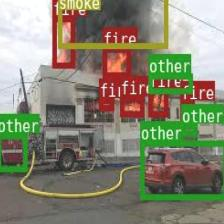fire: (52, 16, 74, 68), (102, 46, 130, 76), (147, 87, 167, 116), (119, 95, 143, 116), (180, 99, 193, 120), (99, 97, 113, 109)
smoke: (58, 0, 168, 47)
